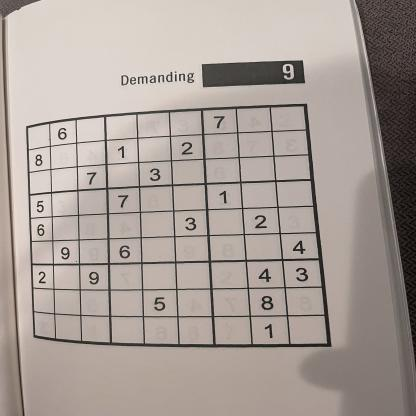sudoku: (21, 102, 339, 355)
